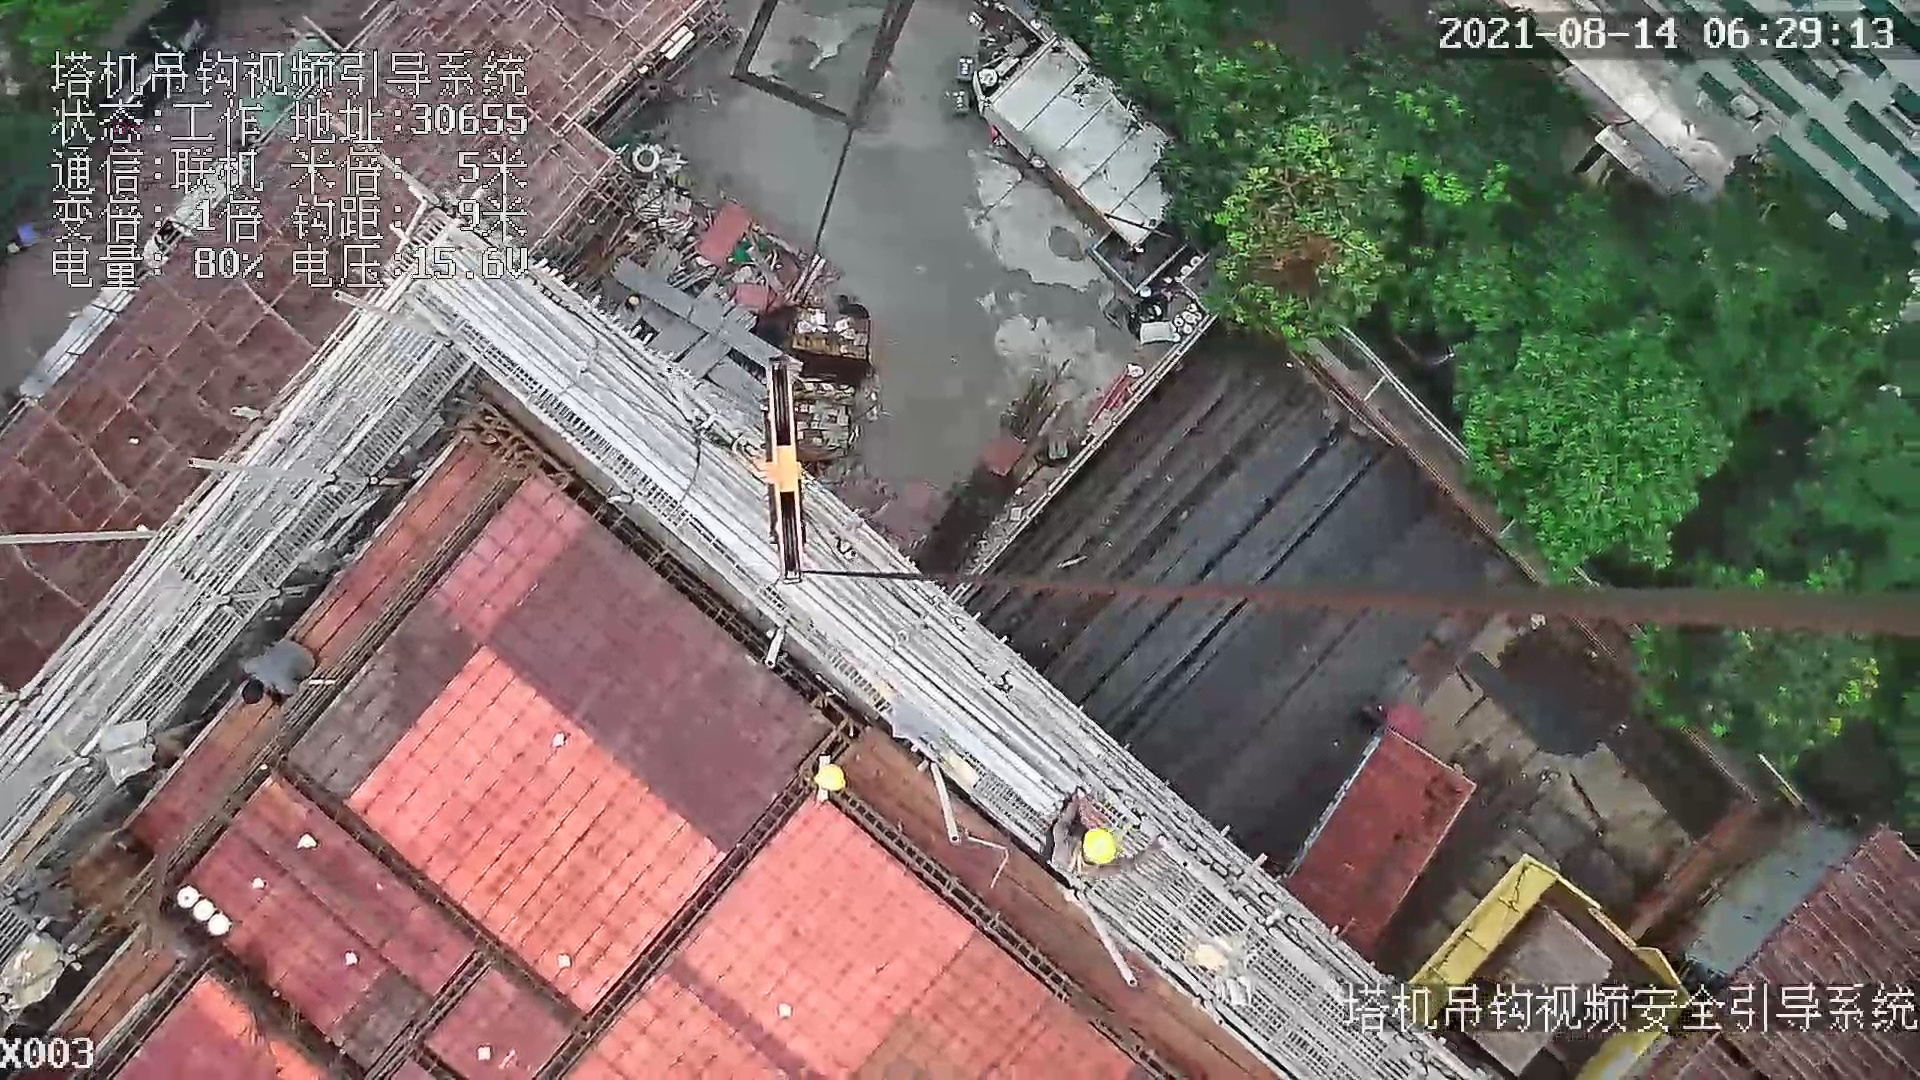helmet: (1078, 830, 1123, 868), (813, 763, 849, 797)
hook: (755, 359, 810, 586)
person: (1041, 781, 1174, 886)
rebar: (978, 349, 1458, 777)
